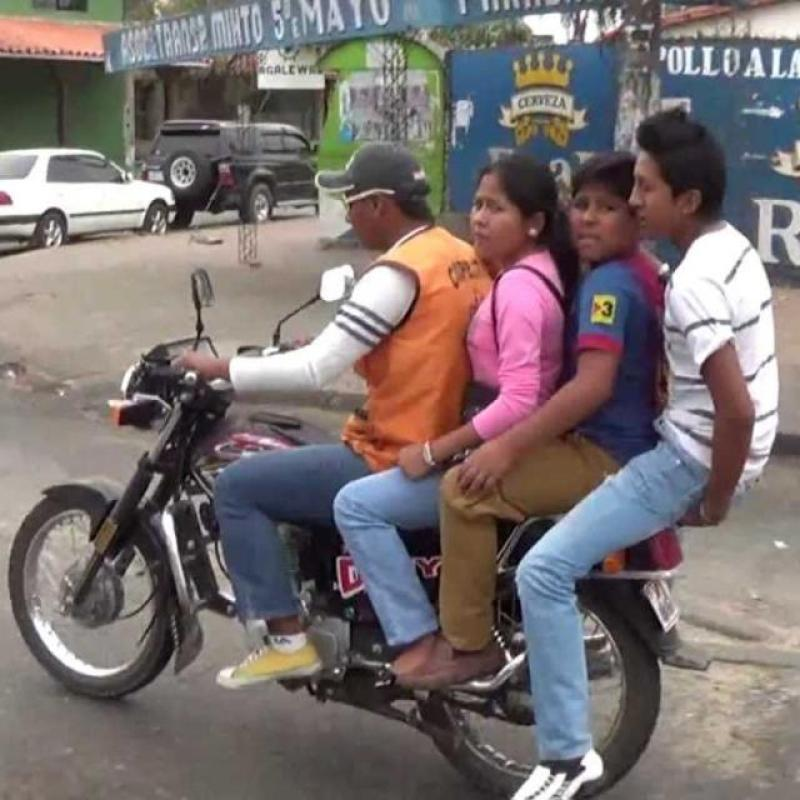nohelmet: (300, 111, 439, 290), (619, 118, 759, 242), (466, 152, 562, 256)
